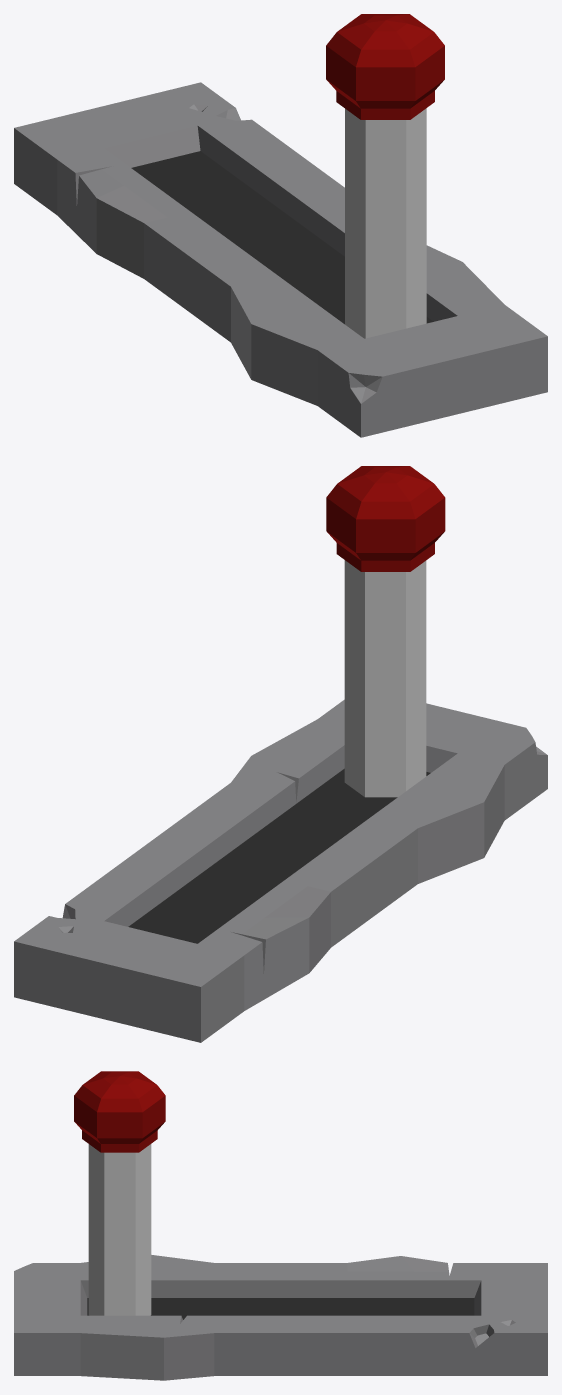
The model's file is lever.fbx.
3 renders of one model, top to bottom at view 1: azimuth 30°, elevation 25°; view 2: azimuth 150°, elevation 25°; view 3: azimuth 270°, elevation 25°, orthographic. The views are drawn at different scales.
Visible parts, largest first — view 1: Cube.001, Cube.000; view 2: Cube.001, Cube.000; view 3: Cube.001, Cube.000.
Part boxes in pixels (left/top/right/bottom): Cube.001: left=14, top=82, right=547, bottom=437; Cube.000: left=326, top=14, right=444, bottom=338; Cube.001: left=14, top=699, right=547, bottom=1042; Cube.000: left=326, top=466, right=445, bottom=797; Cube.001: left=14, top=1255, right=547, bottom=1380; Cube.000: left=74, top=1071, right=165, bottom=1315.
Bounding box in the file's own units: 55.38 × 82.01 × 150.
